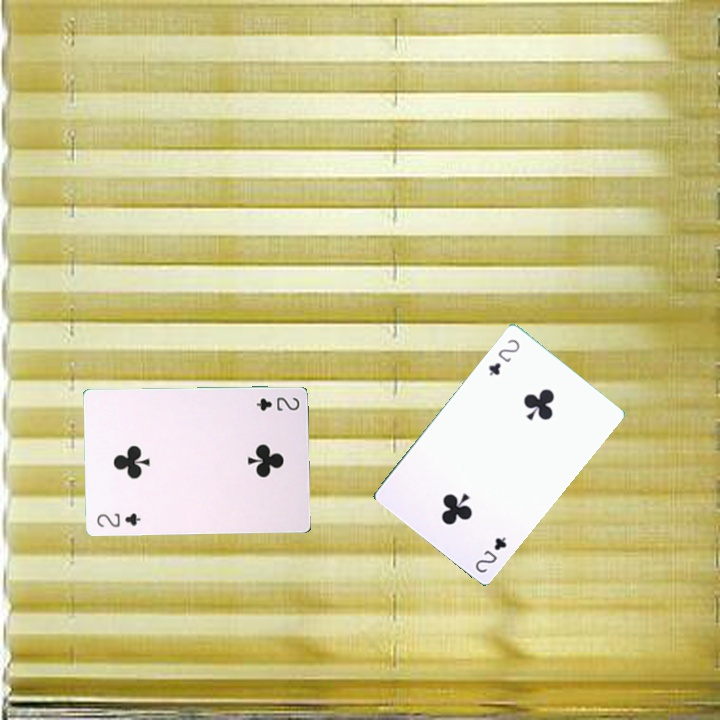2c: (471, 532, 509, 576), (484, 335, 522, 378), (93, 509, 143, 530), (252, 393, 302, 413)
